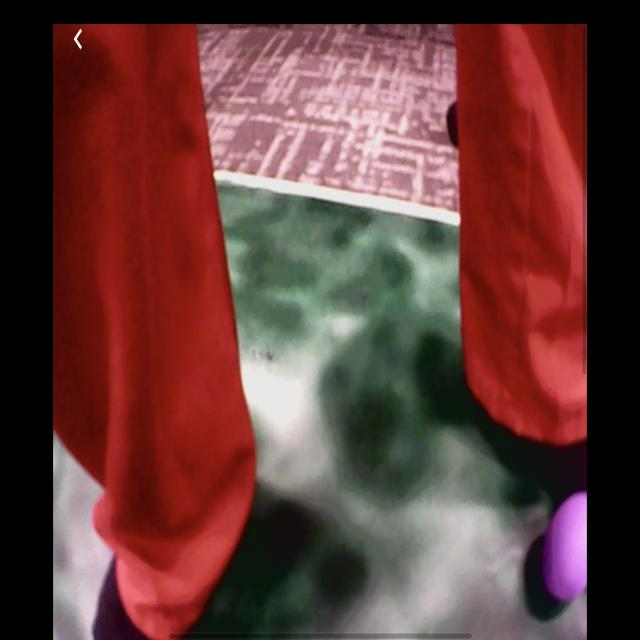ball: (545, 493, 588, 603)
